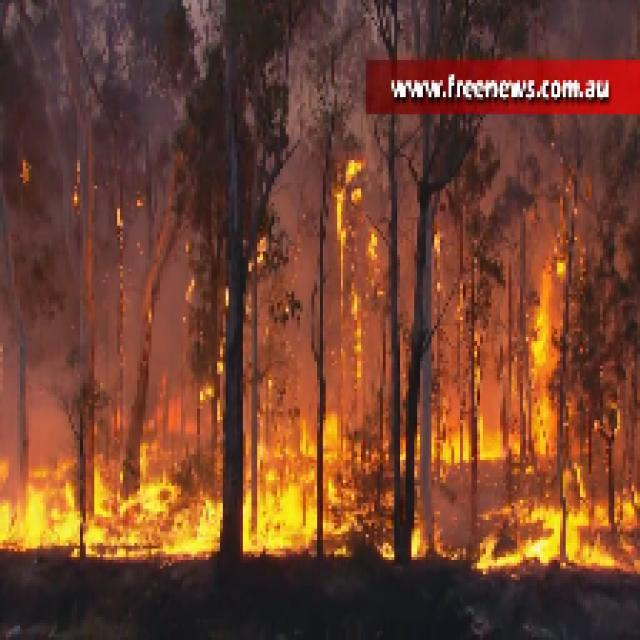Fire: (2, 432, 218, 557), (474, 488, 640, 574), (243, 417, 346, 552), (526, 246, 568, 451)
Smoke: (2, 6, 178, 388)
